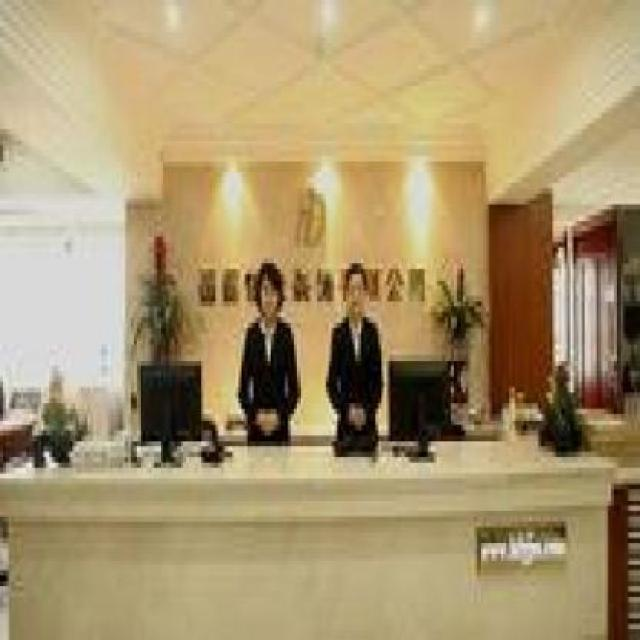frontdesk: (0, 392, 639, 640)
